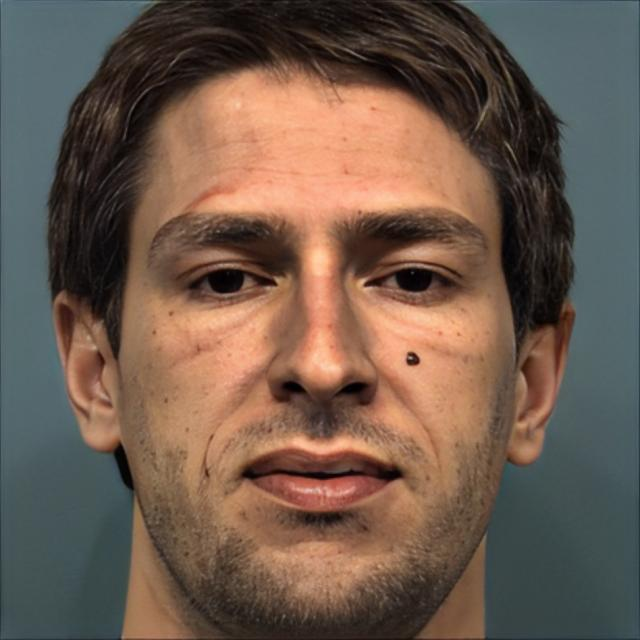disgust: (116, 53, 517, 640)
